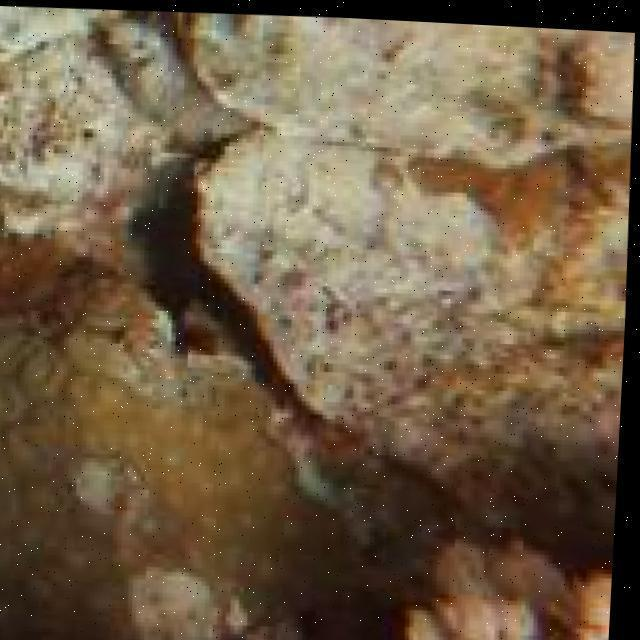Healthy Coral: (0, 236, 345, 640)
